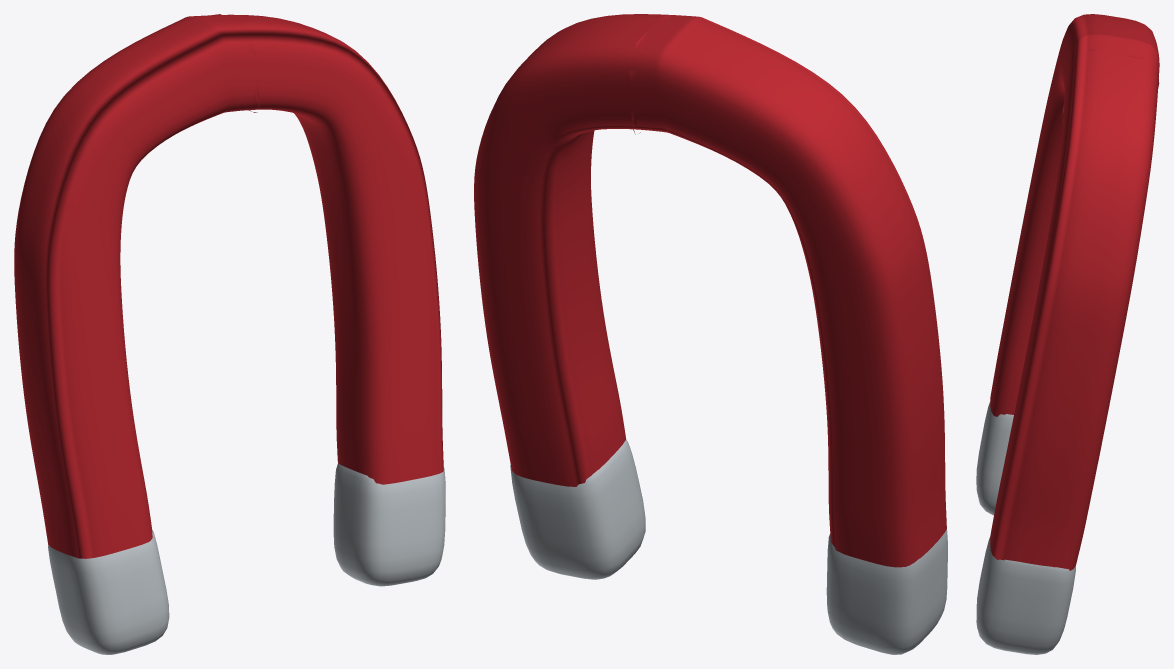
Rendered from horseshoe-magnet.glb.
3 renders of one model, left to right at view 1: azimuth 30°, elevation 25°; view 2: azimuth 150°, elevation 25°; view 3: azimuth 270°, elevation 25°, orthographic. The views are drawn at different scales.
Visible parts, largest first — view 1: User supplied horseshoe magnet; view 2: User supplied horseshoe magnet; view 3: User supplied horseshoe magnet.
Part boxes in pixels (box(x1,y1,x2,y2)): User supplied horseshoe magnet: box(14, 14, 445, 654); User supplied horseshoe magnet: box(474, 14, 947, 654); User supplied horseshoe magnet: box(976, 14, 1159, 654).
Size of the model in its own units: 1.76 by 2.4 by 0.7301.
